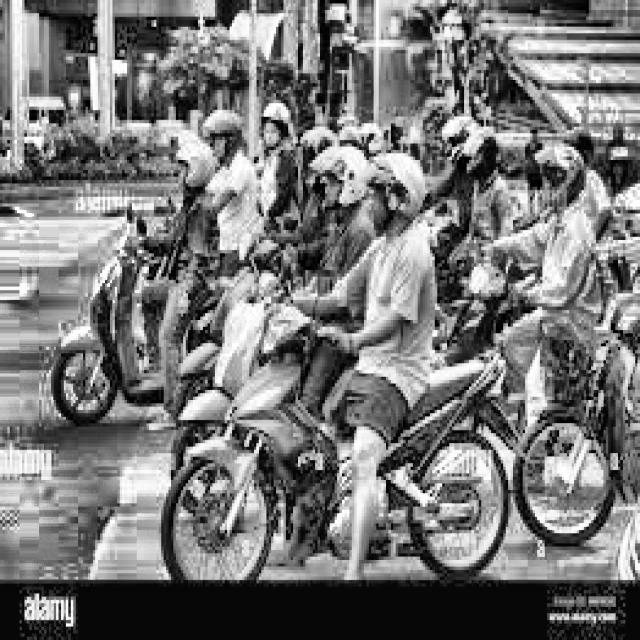Helmet: (356, 146, 443, 232), (531, 134, 591, 222), (312, 135, 378, 208), (159, 119, 216, 192), (461, 126, 510, 182), (200, 102, 245, 161), (255, 94, 294, 154)
